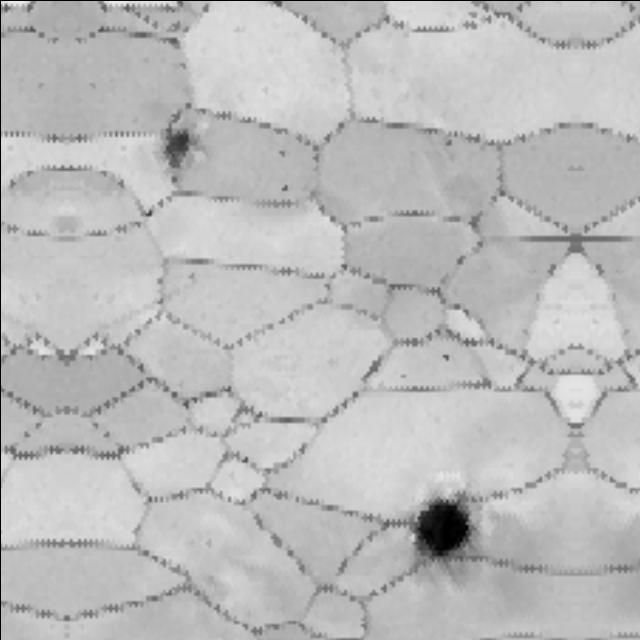good_void: (395, 475, 486, 582), (147, 120, 200, 189), (436, 350, 452, 365), (276, 181, 291, 197), (439, 137, 454, 150)
